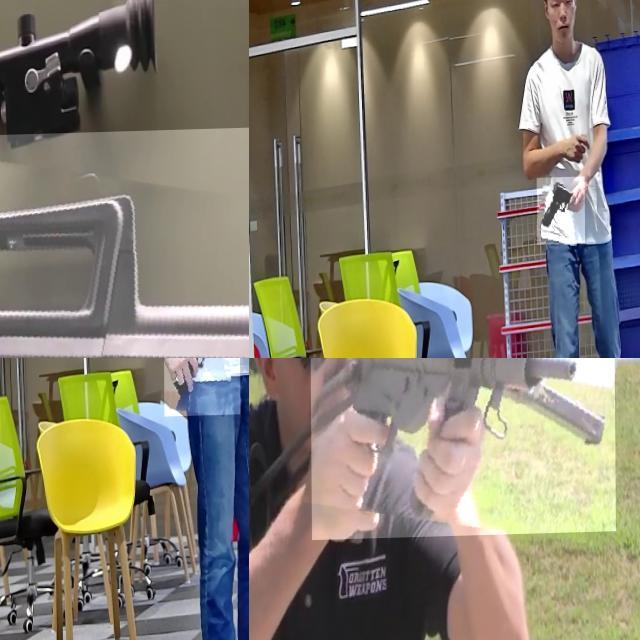gun-knife-thesis - v11 Yolov5 augmented: (0, 130, 249, 358), (309, 358, 615, 541), (163, 358, 239, 419), (536, 179, 585, 247)
